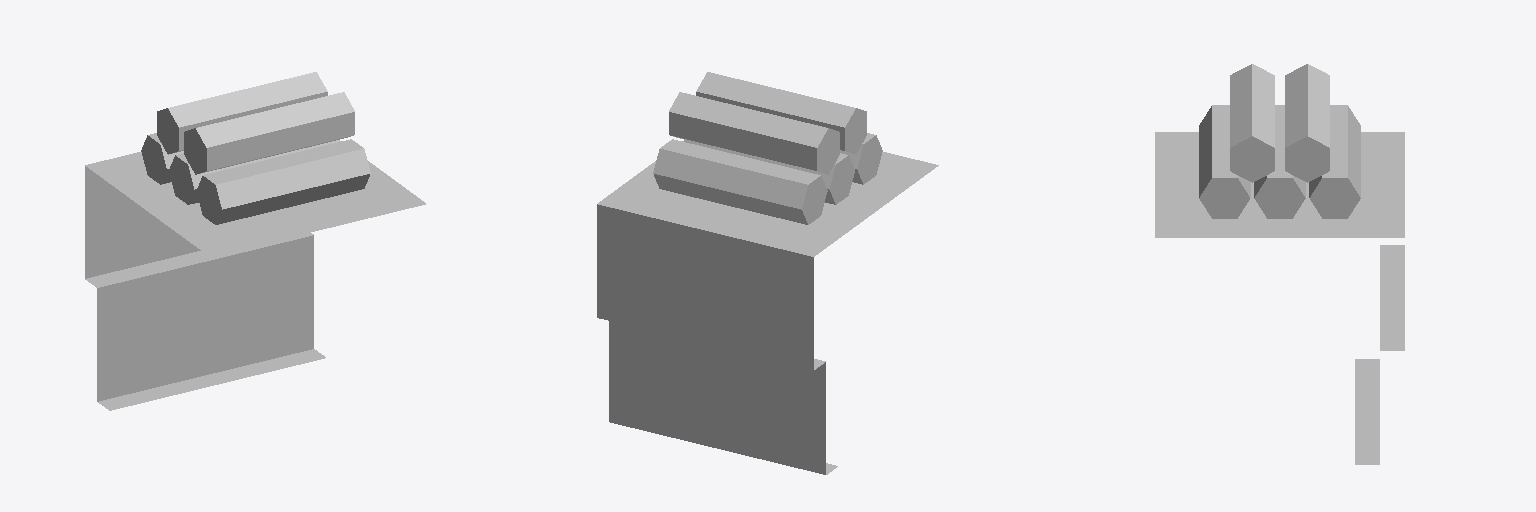
The model's file is Straight_Edge_Wall_Roof_Outer_Corner.obj.
3 renders of one model, left to right at view 1: azimuth 30°, elevation 25°; view 2: azimuth 150°, elevation 25°; view 3: azimuth 270°, elevation 25°, orthographic.
Visible parts, largest first — view 1: Straight_Edge_Wall_Roof_Outer_Corner; view 2: Straight_Edge_Wall_Roof_Outer_Corner; view 3: Straight_Edge_Wall_Roof_Outer_Corner.
Part boxes in pixels (left/top/right/bottom): Straight_Edge_Wall_Roof_Outer_Corner: left=85, top=72, right=425, bottom=410; Straight_Edge_Wall_Roof_Outer_Corner: left=597, top=72, right=938, bottom=474; Straight_Edge_Wall_Roof_Outer_Corner: left=1155, top=64, right=1404, bottom=464.
Bounding box in the file's own units: 1 × 1.37 × 1.